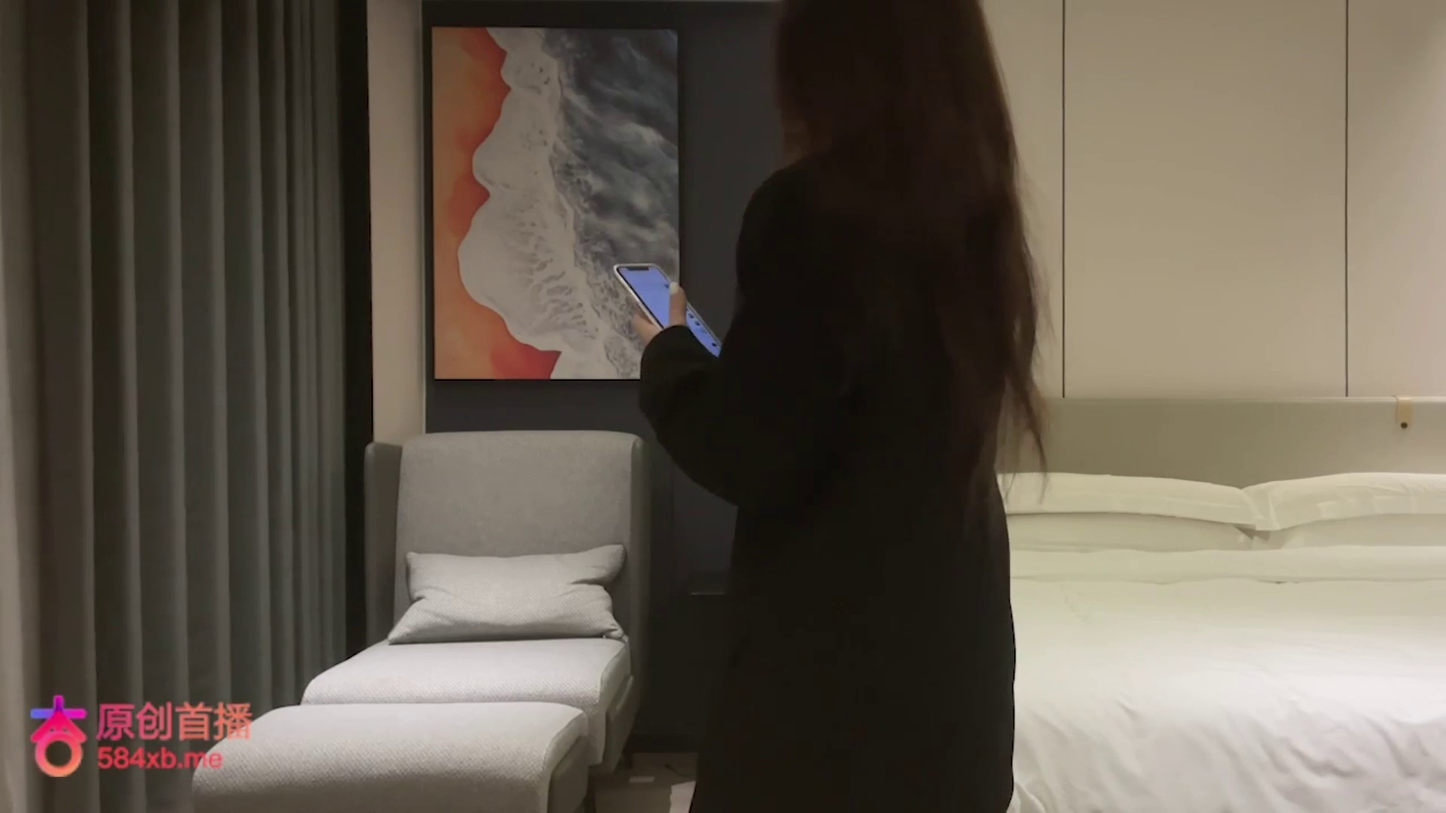stand: (625, 2, 1051, 808)
